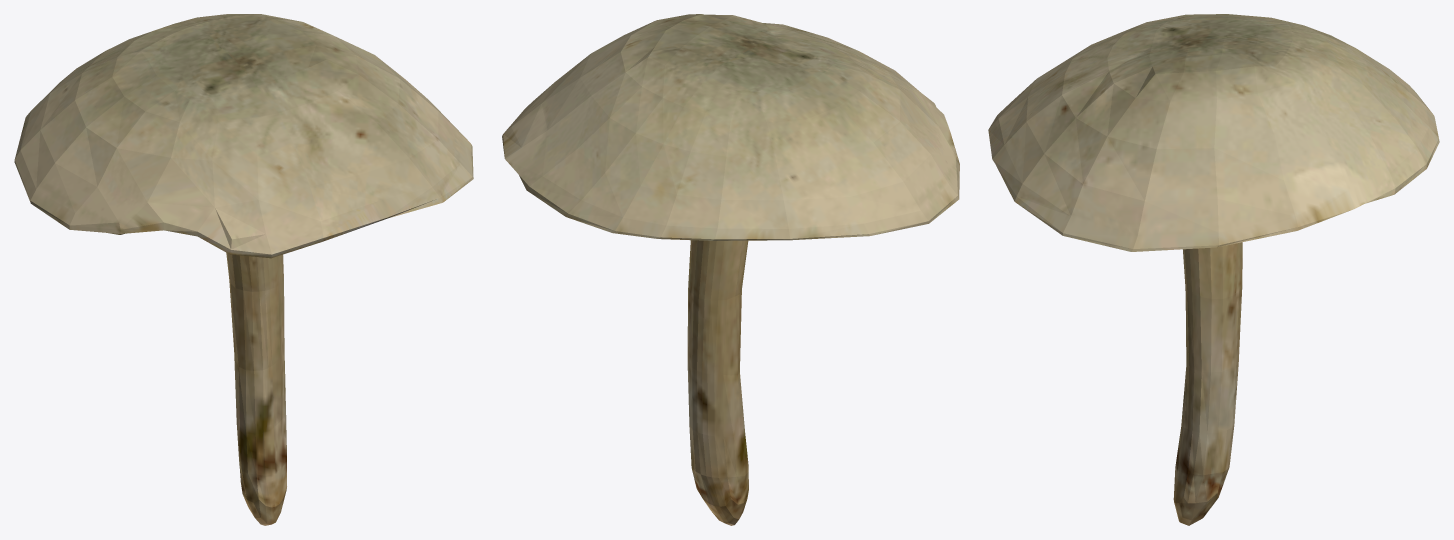
Rendered from P_Caogu_02.obj.
3 renders of one model, left to right at view 1: azimuth 30°, elevation 25°; view 2: azimuth 150°, elevation 25°; view 3: azimuth 270°, elevation 25°, orthographic. The views are drawn at different scales.
Size of the model in its own units: 0.3207 by 0.3677 by 0.3132.
Materials: 1 (1 with a texture image).
